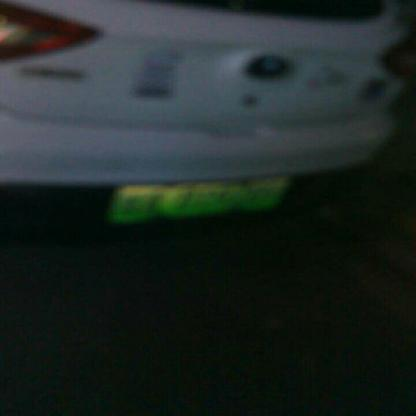lp: (109, 174, 289, 219)
